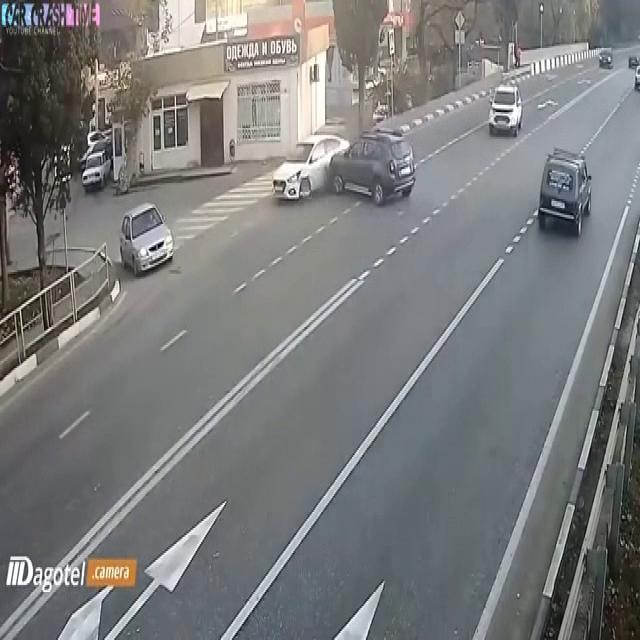accident: (272, 105, 425, 225)
